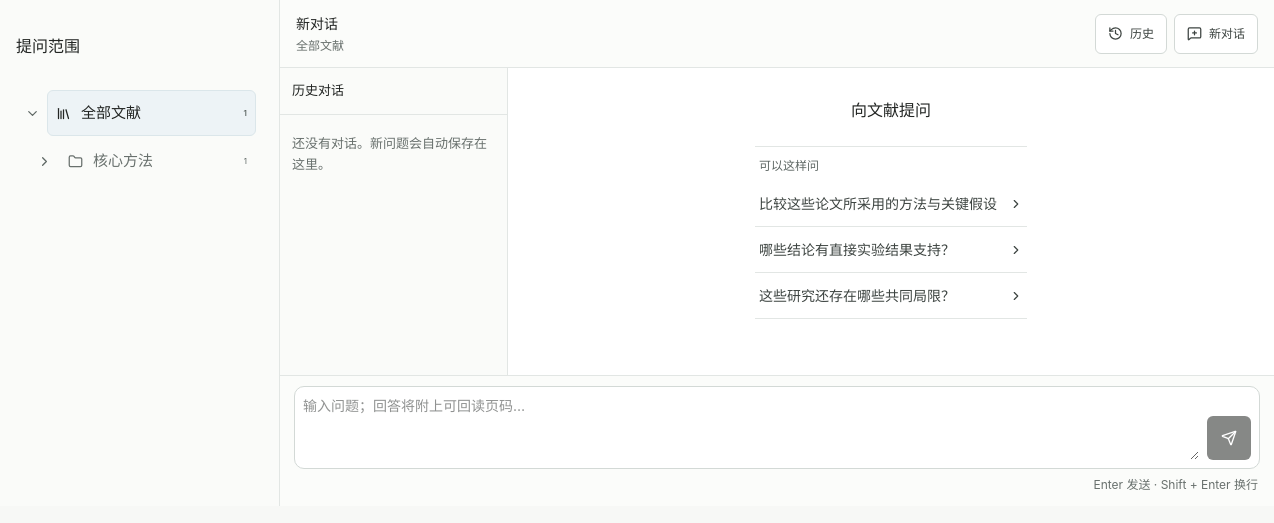
AskView 持久化问答 › 示例问题只写入输入框并聚焦，不产生 POST
Step 1. Click the button "比较这些论文所采用的方法与关键假设" → [891, 204], box [755,181,1027,227]
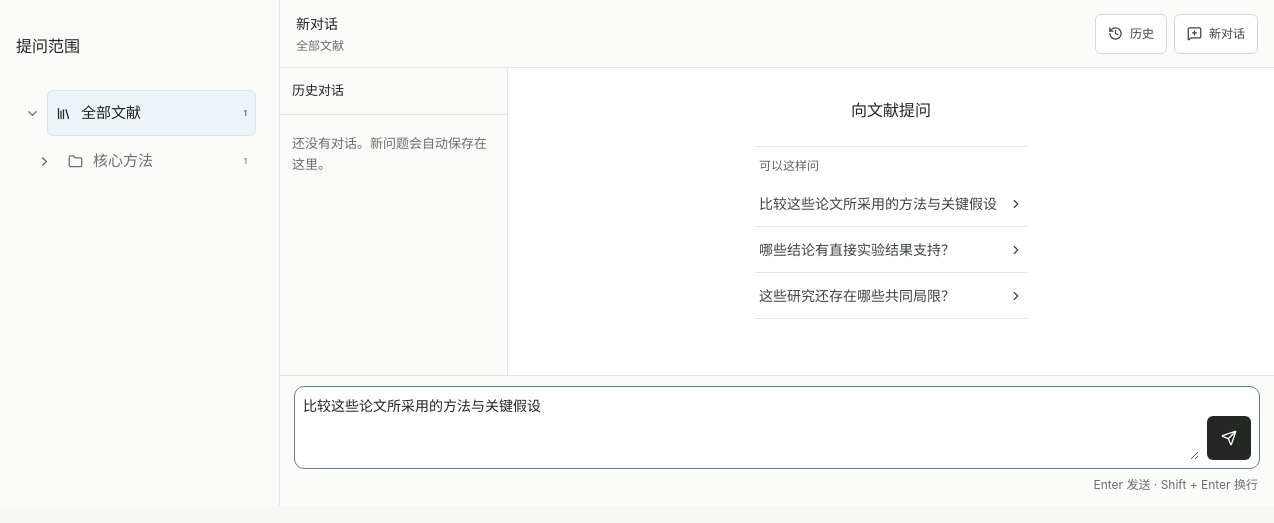
Result: the text box with placeholder "输入问题；回答将附上可回读页码…" holds "比较这些论文所采用的方法与关键假设" at [303,395,1199,460]
